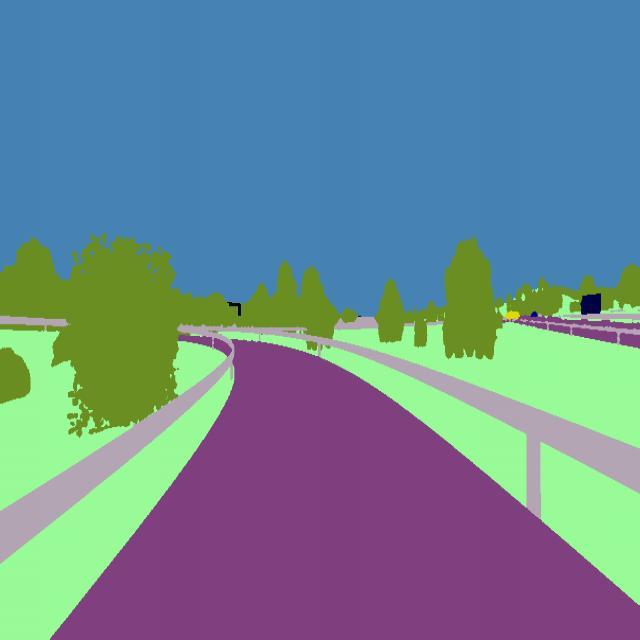safe: (576, 286, 604, 322)
